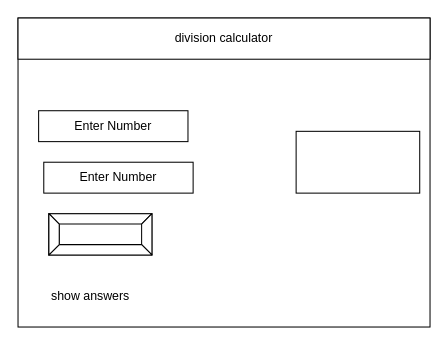
Image size: 448x345. Some labels were removed from this diagram. The shapes that lost their labels are listed below. From the top down, each one's centre as x and y in pixels, then its label:
(357,161): image here
(100,234): Calculate
